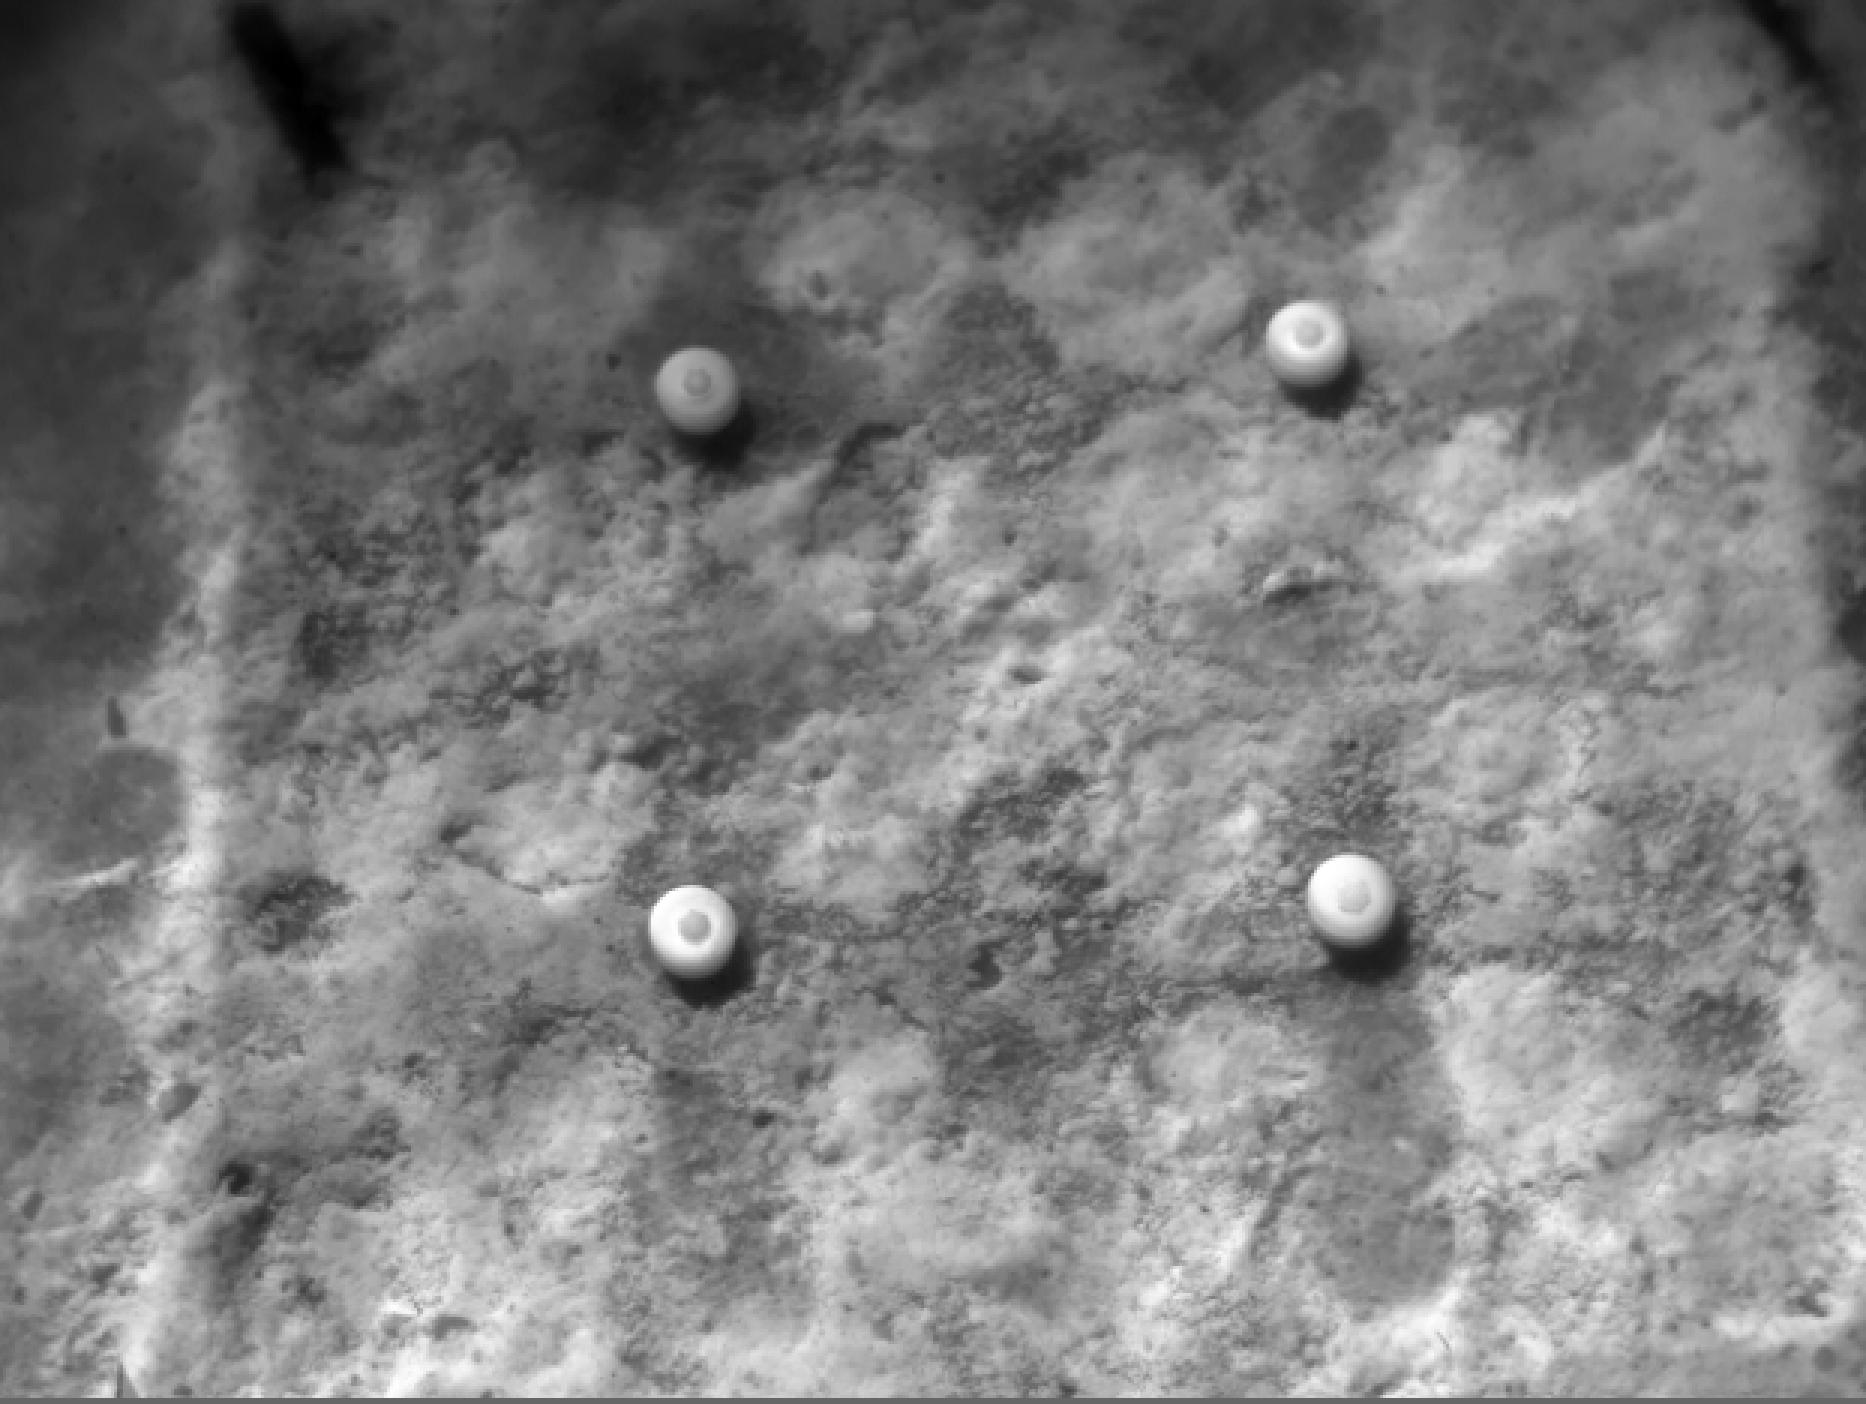mines-gjV8: (1303, 866, 1426, 944), (651, 883, 736, 973), (662, 338, 740, 423), (1277, 308, 1347, 400)
